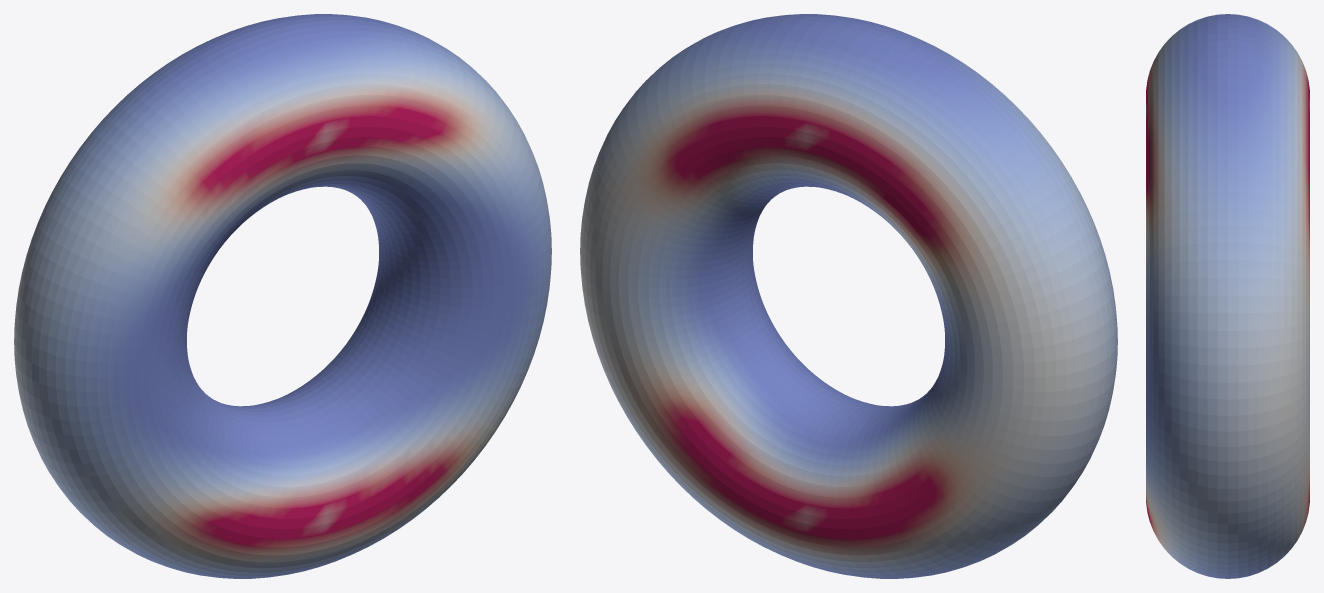
The picture shows the model from 3 angles, left to right: view 1: azimuth 30°, elevation 25°; view 2: azimuth 150°, elevation 25°; view 3: azimuth 270°, elevation 25°; orthographic projection. The views are drawn at different scales.
Parts seen in each view (by area): view 1: world; view 2: world; view 3: world.
Boxes of the visible parts, box(x1,y1,x2,y2) form: world: box(14, 14, 551, 578); world: box(580, 14, 1117, 578); world: box(1146, 14, 1309, 578).
Size of the model in its own units: 18.8 by 18.8 by 5.46.
